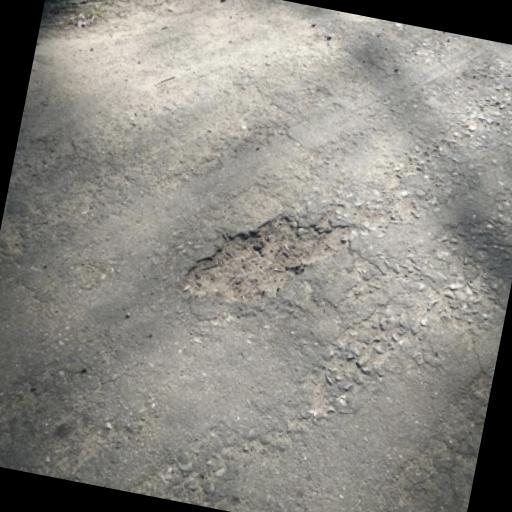pothole: (176, 191, 358, 324)
